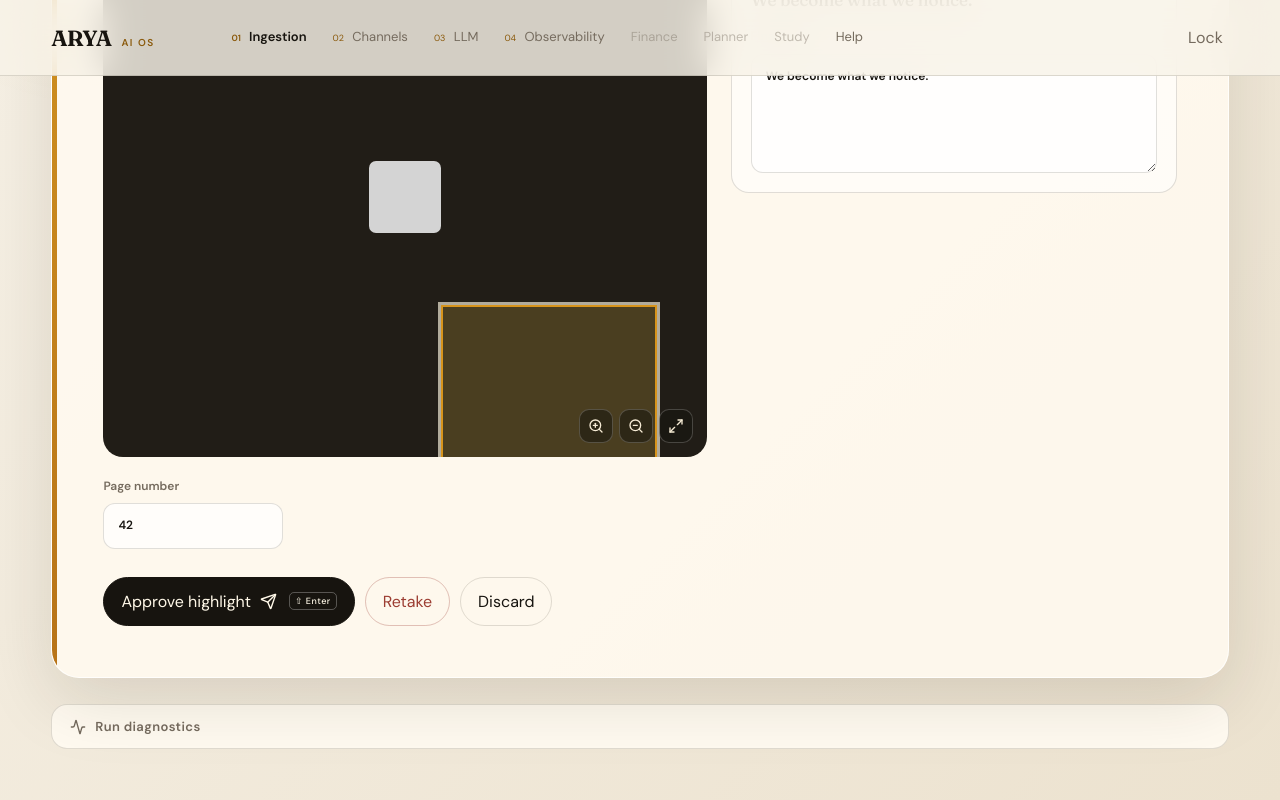
Scenario: confirmed success › does not celebrate on the 202; it waits for the confirming snapshot
(page scrolled)
Click the button "Approve highlight ⇧ Enter". click: [229, 601]
box: [103, 576, 355, 626]
(page scrolled)
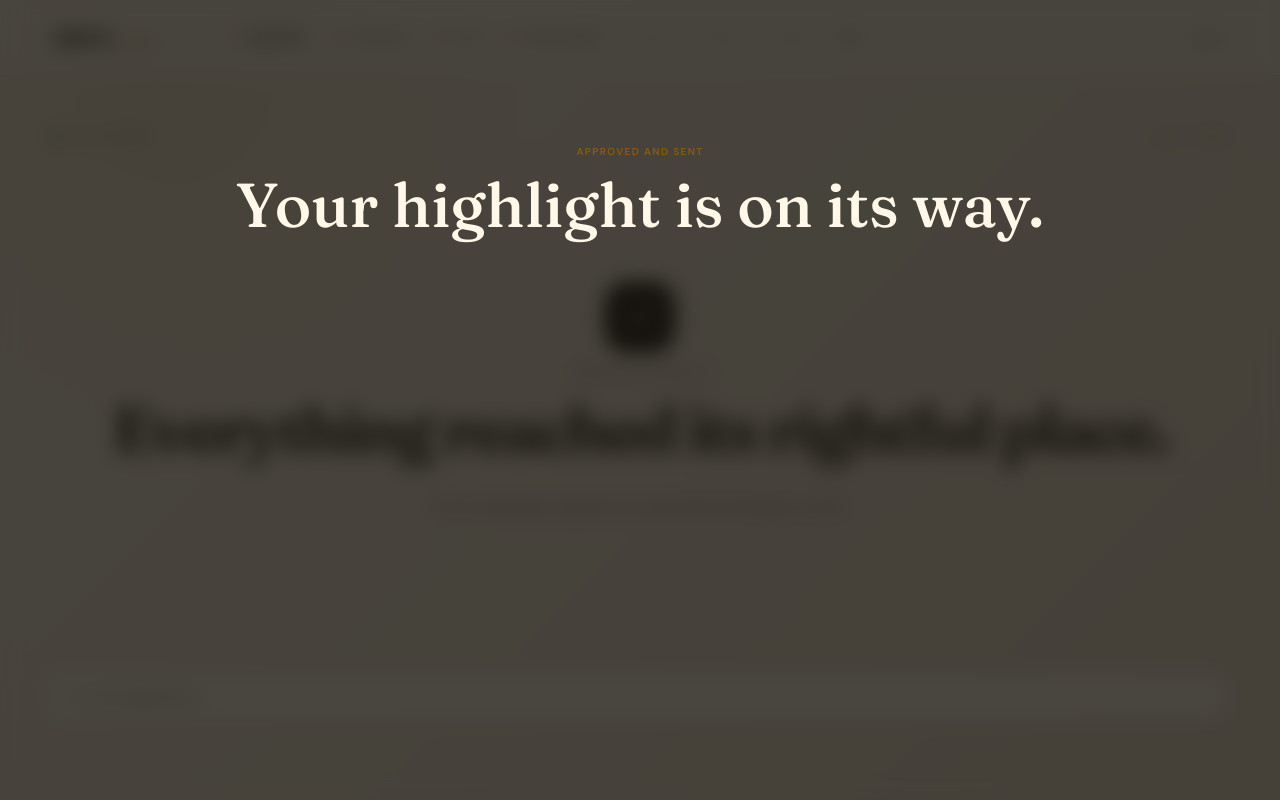
Expected: the message "Approved and sent Your highlight is on its way." is shown
